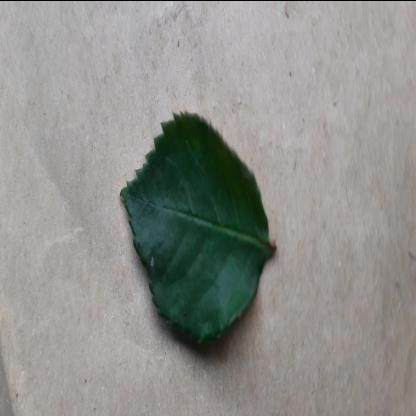normal: (118, 102, 270, 341)
